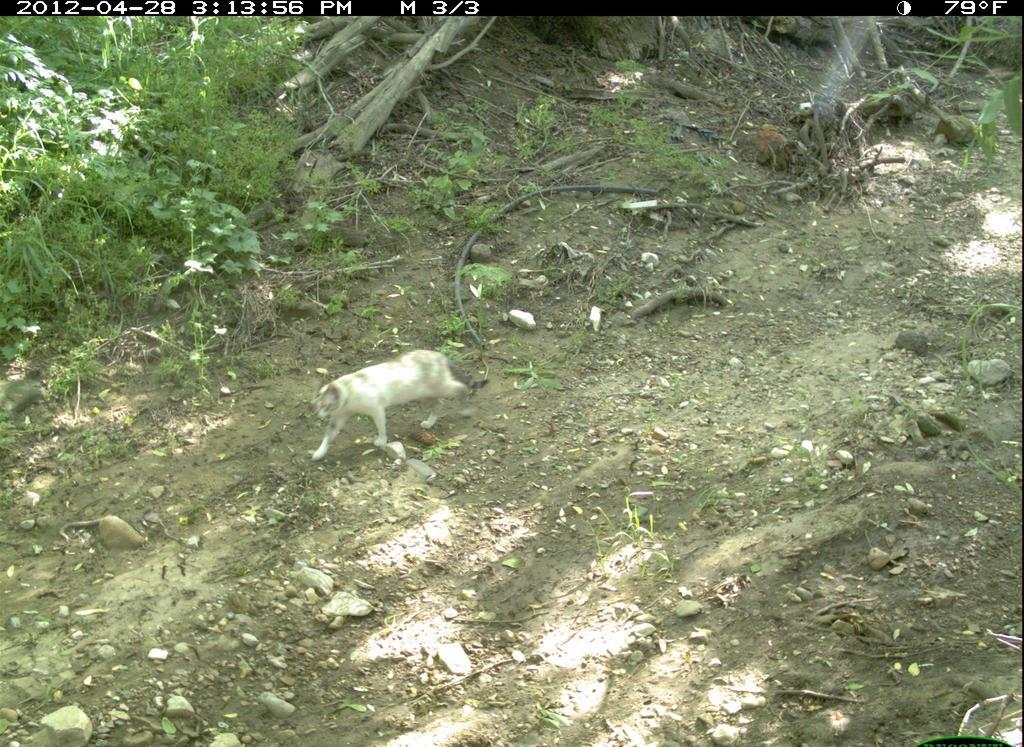cat: (300, 338, 498, 483)
